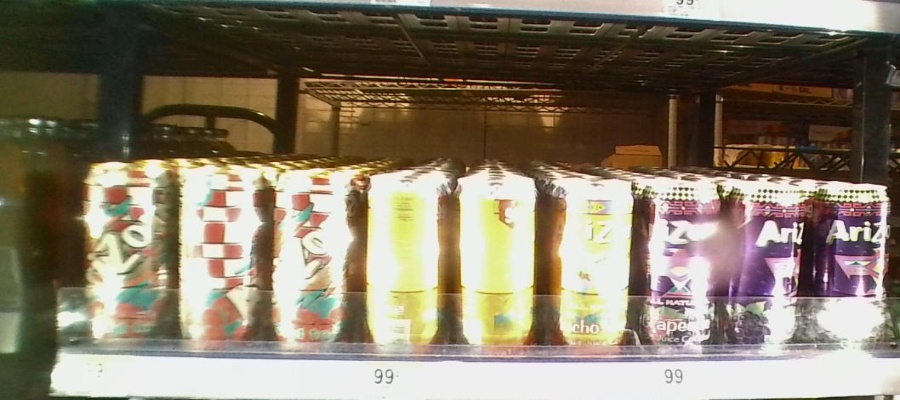bottle: (359, 170, 450, 365), (177, 155, 267, 350), (79, 162, 172, 348), (450, 170, 538, 360), (274, 159, 350, 364), (550, 174, 633, 359), (722, 179, 805, 352), (812, 177, 888, 358), (640, 181, 715, 360)
